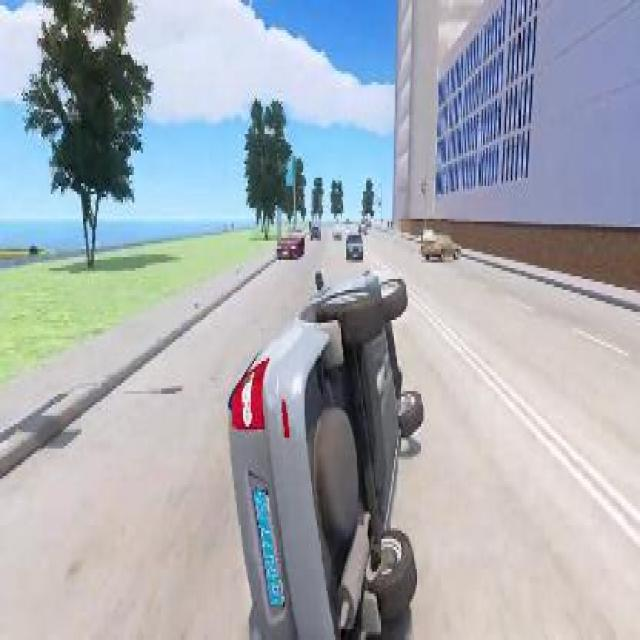accident: (222, 274, 423, 634)
